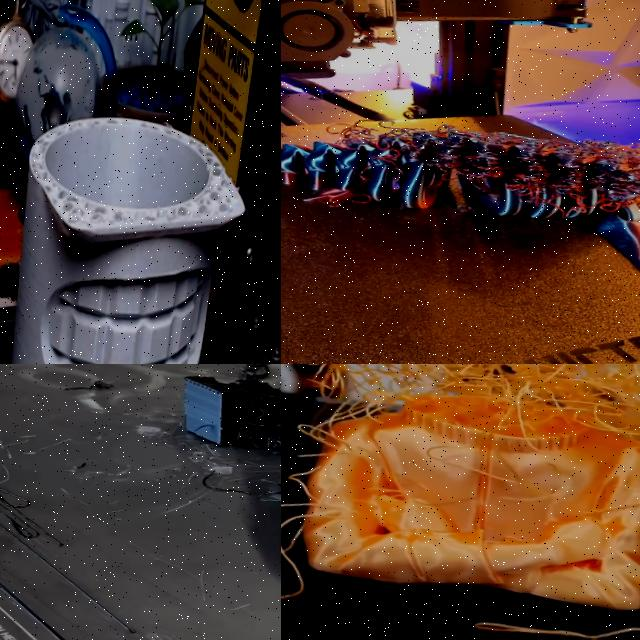spaghetti: (292, 364, 640, 565), (365, 116, 640, 227), (463, 579, 640, 640), (281, 507, 360, 640)
